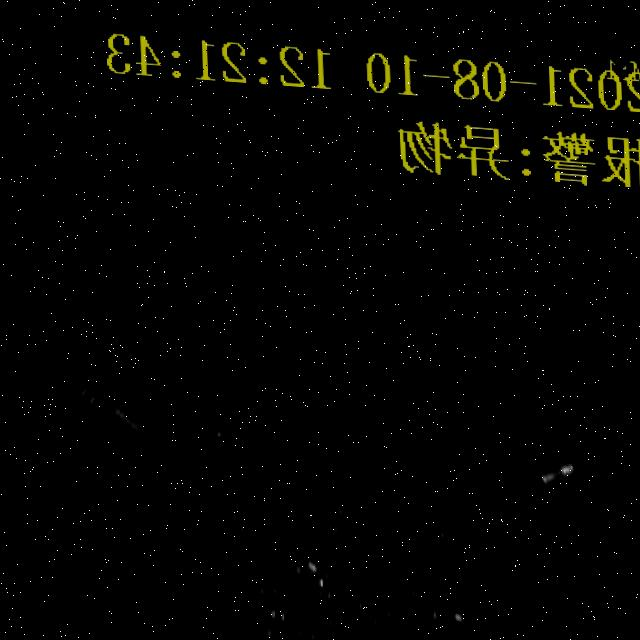bolt: (290, 170, 415, 441)
